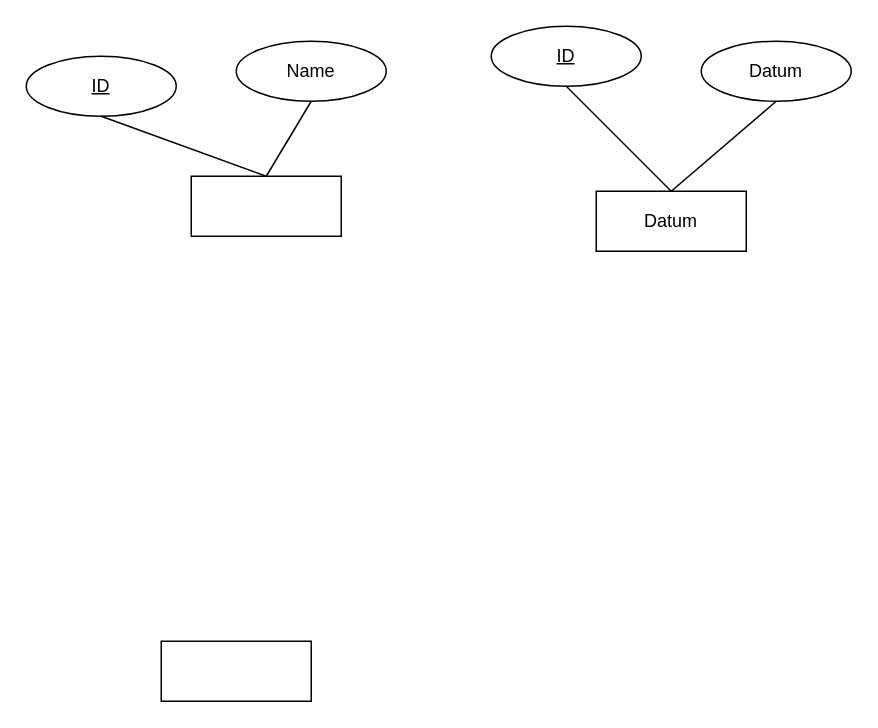
Image size: 878x728. Some labels were removed from this diagram. The shapes that lost their labels are listed below. From the top down, each one's centre as x and y in pixels, then its label:
At (x=265, y=205): "Benutzer".
At (x=235, y=670): "Entity".
